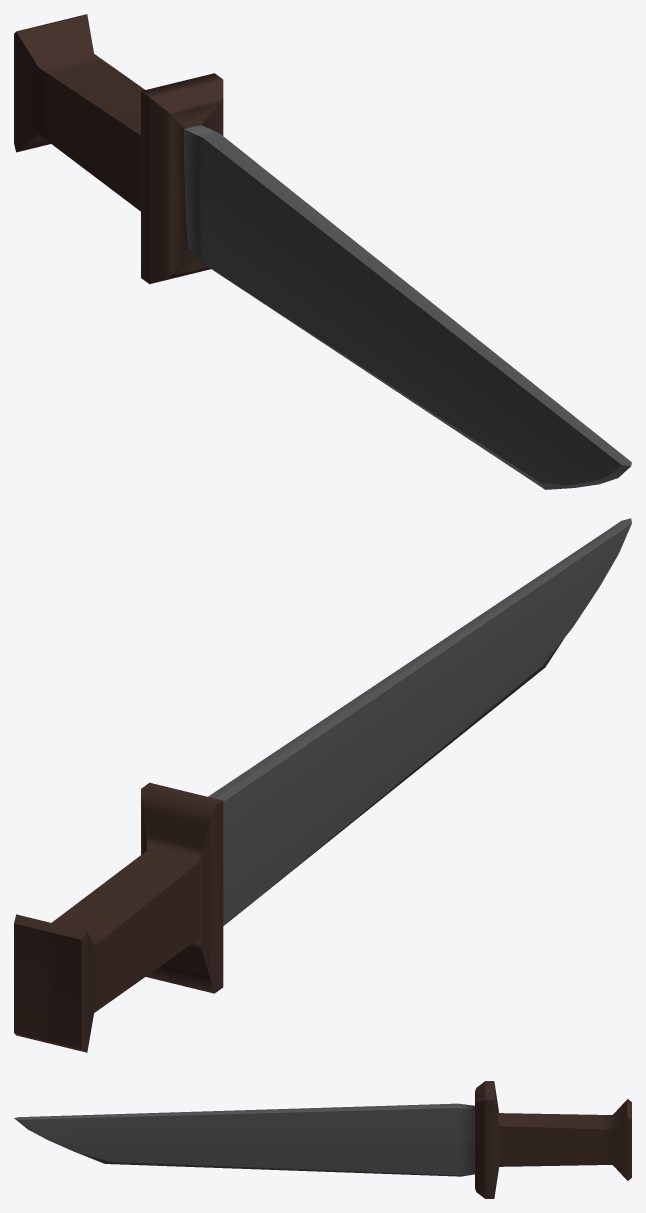
File: shortBlade.fbx
3 renders of one model, top to bottom at view 1: azimuth 30°, elevation 25°; view 2: azimuth 150°, elevation 25°; view 3: azimuth 270°, elevation 25°, orthographic. The views are drawn at different scales.
Parts seen in each view (by area): view 1: pCube9; view 2: pCube9; view 3: pCube9.
Part boxes in pixels (<box>): pCube9: <box>14,14,631,489</box>; pCube9: <box>14,518,631,1052</box>; pCube9: <box>14,1081,631,1198</box>.
Bounding box in the file's own units: 0.163 × 0.3951 × 2.24.
